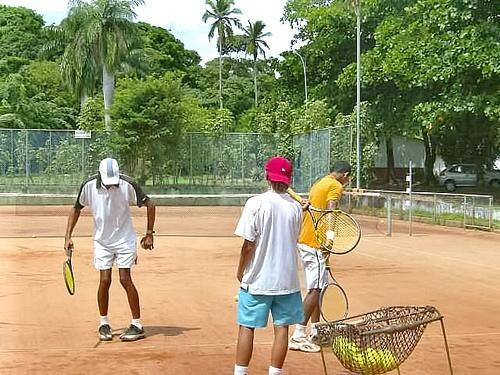car: (438, 165, 500, 192)
